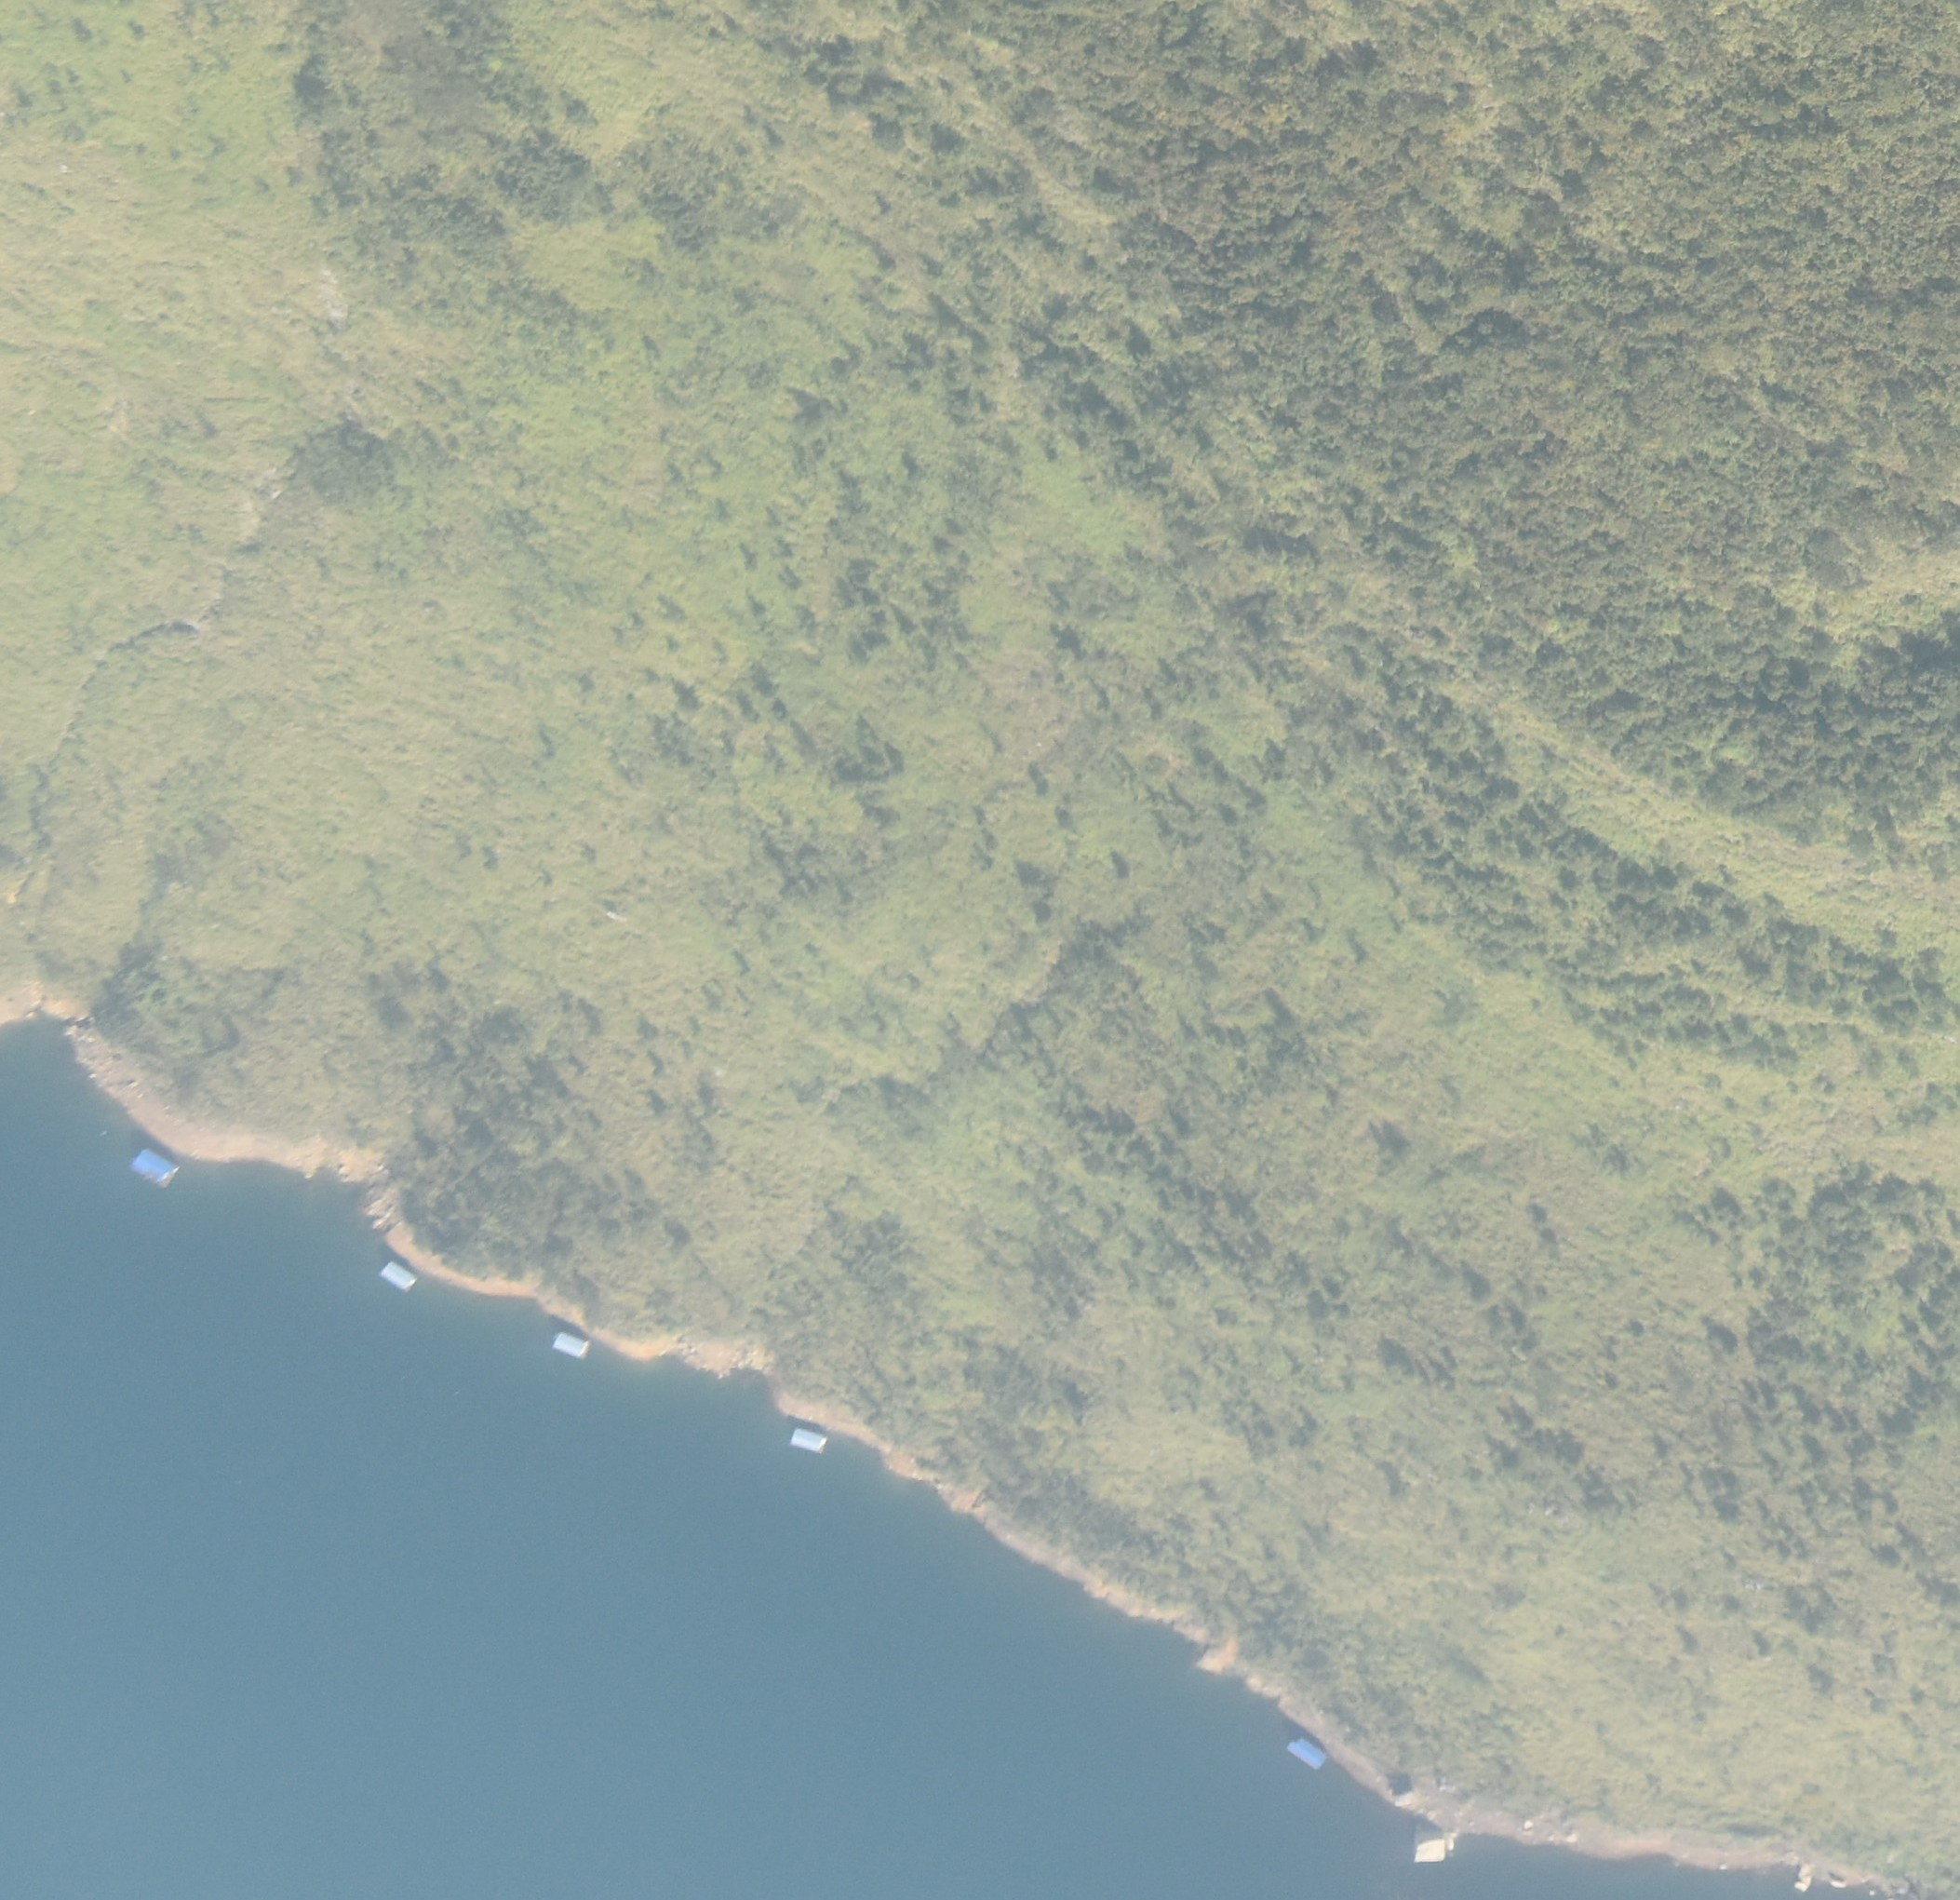prefabricated-house: (135, 1152, 174, 1190), (1286, 1737, 1327, 1768), (552, 1328, 587, 1364), (383, 1258, 415, 1292), (789, 1422, 827, 1451)
